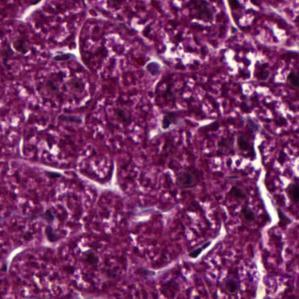inflammation: (229, 125, 265, 172), (243, 48, 274, 84), (156, 109, 178, 136), (139, 57, 167, 77)
